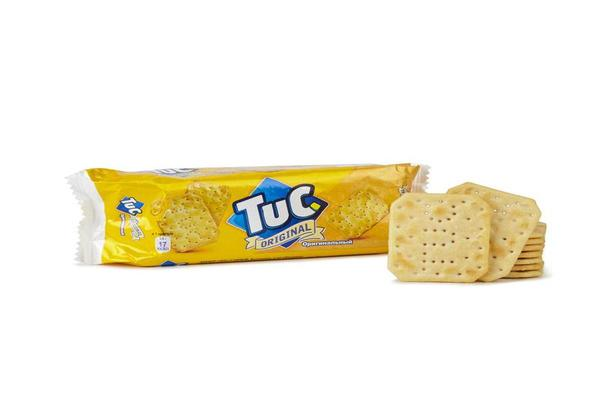crackers tuc: (107, 168, 411, 257)
